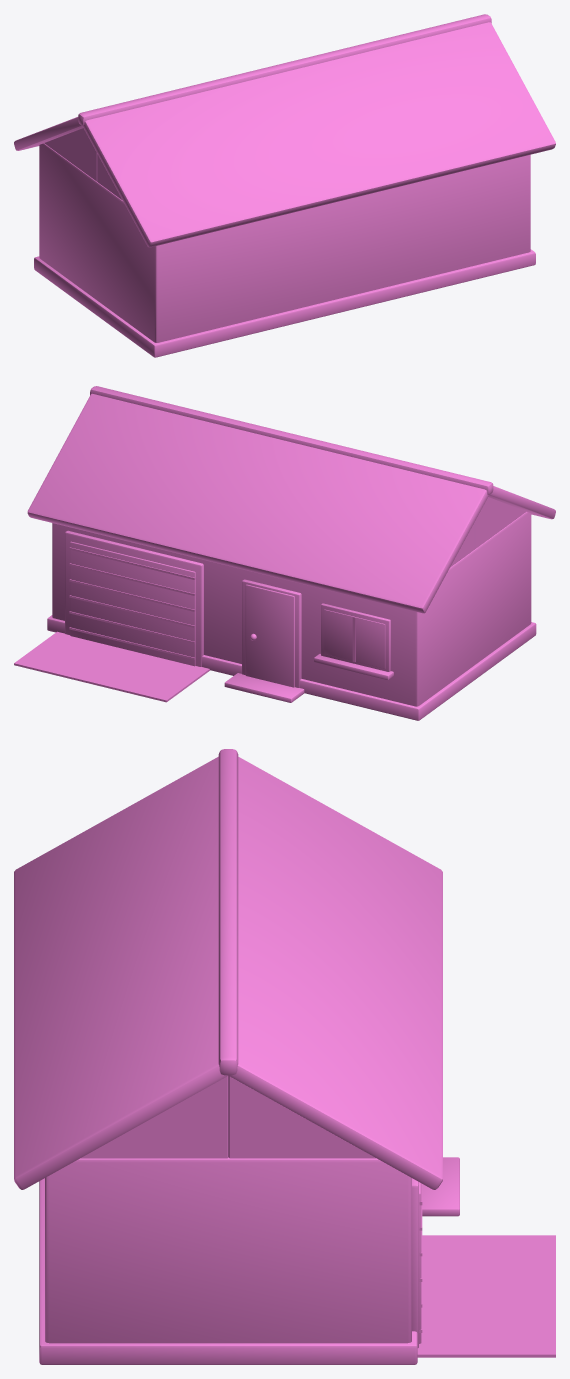
File: House_C.fbx
3 views of the same model, one above another, from view 1: azimuth 30°, elevation 25°; view 2: azimuth 150°, elevation 25°; view 3: azimuth 270°, elevation 25° (orthographic). The views are drawn at different scales.
Visible parts, largest first — view 1: Body, Paint; view 2: Body, Paint; view 3: Body, Paint.
Boxes of the visible parts, bbox=[...] form: Body: bbox=[14, 14, 555, 357]; Paint: bbox=[39, 143, 530, 342]; Body: bbox=[14, 386, 555, 720]; Paint: bbox=[52, 512, 531, 706]; Body: bbox=[14, 749, 555, 1364]; Paint: bbox=[45, 1157, 411, 1343].
Bounding box in the file's own units: 26.2 × 12.55 × 19.2.
Materials: 1 (1 with a texture image).
